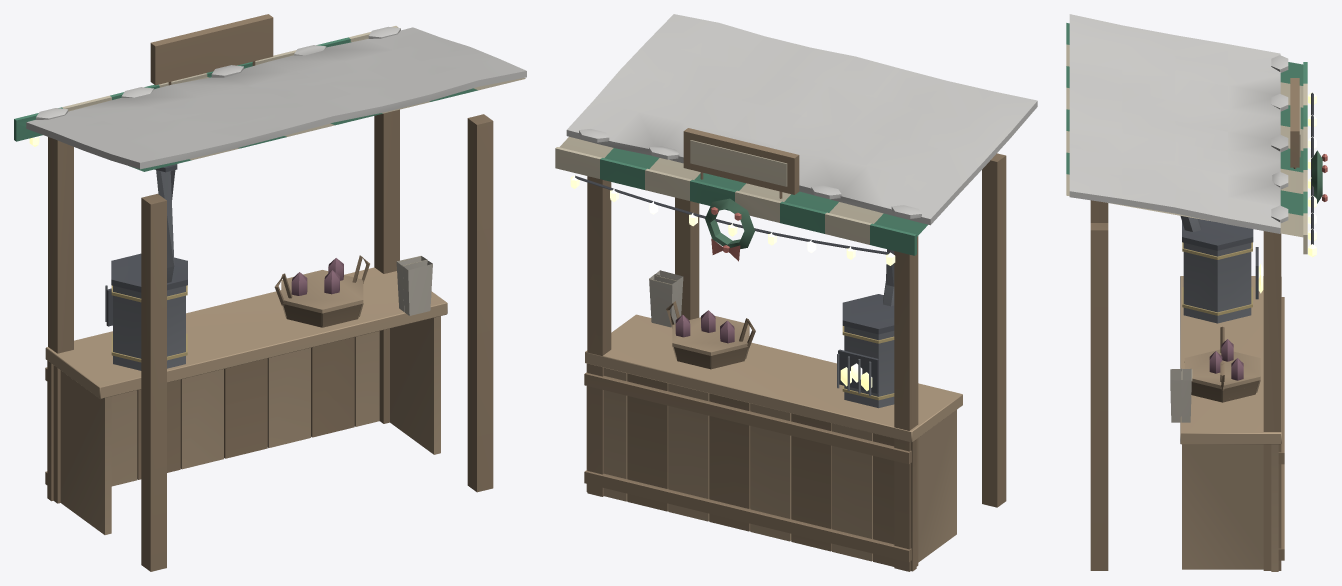
Rendered from market_stall_sweetpotato_low.glb.
3 renders of one model, left to right at view 1: azimuth 30°, elevation 25°; view 2: azimuth 150°, elevation 25°; view 3: azimuth 270°, elevation 25°, orthographic. The views are drawn at different scales.
Visible parts, largest first — view 1: market_stall_sweetpotato; view 2: market_stall_sweetpotato; view 3: market_stall_sweetpotato.
Boxes of the visible parts, bbox=[...] form: market_stall_sweetpotato: bbox=[14, 14, 526, 571]; market_stall_sweetpotato: bbox=[555, 14, 1037, 571]; market_stall_sweetpotato: bbox=[1066, 14, 1327, 571].
Bounding box in the file's own units: 2.49 × 2.6 × 1.57.
